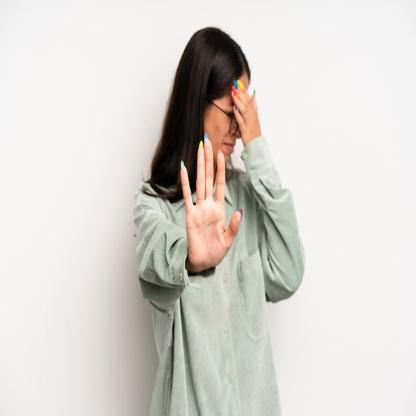stop: (178, 130, 244, 274)
